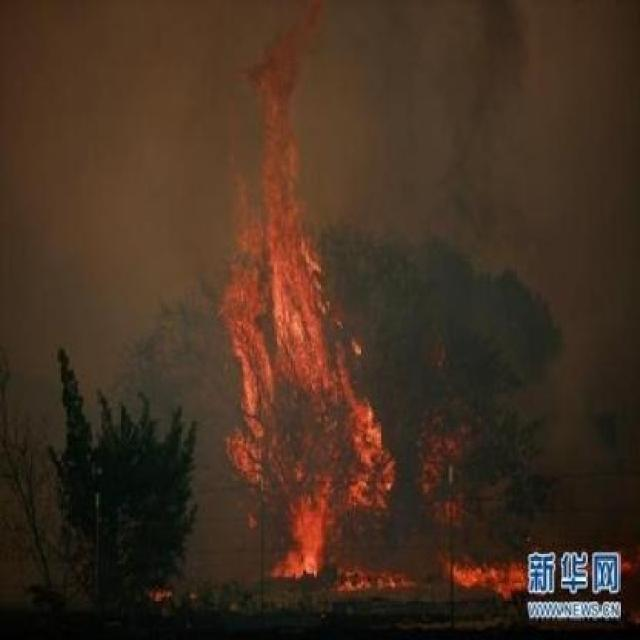Fire: (210, 0, 412, 608)
